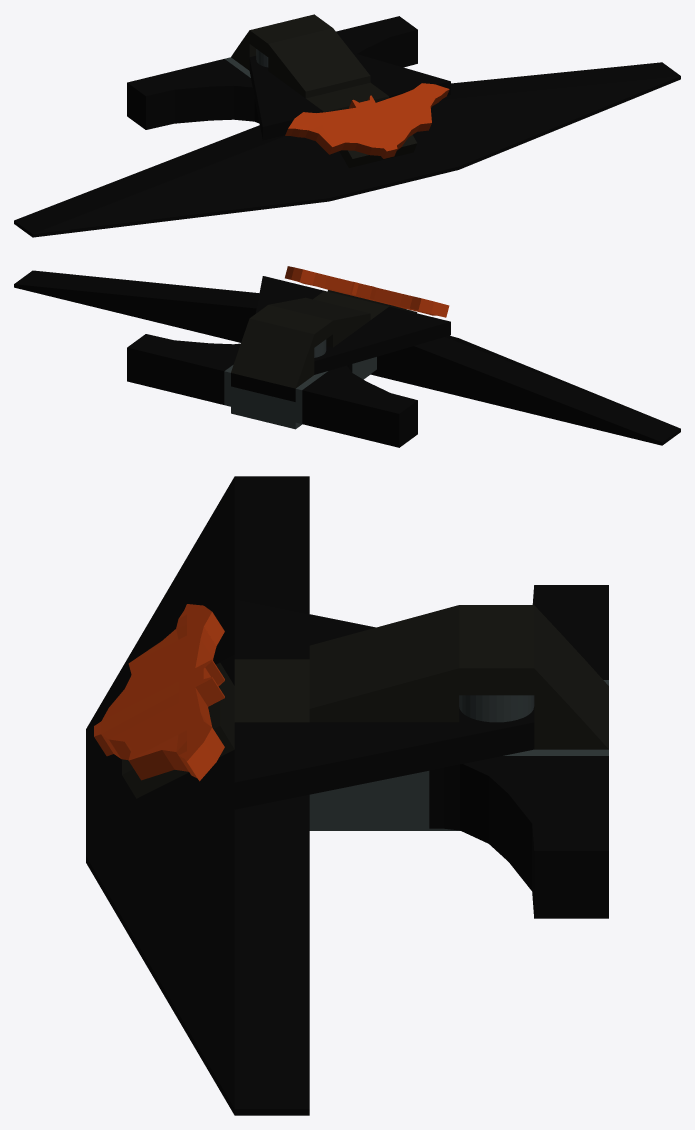
Rendered from wingLeft.obj.
3 renders of one model, top to bottom at view 1: azimuth 30°, elevation 25°; view 2: azimuth 150°, elevation 25°; view 3: azimuth 270°, elevation 25°, orthographic. The views are drawn at different scales.
Visible parts, largest first — view 1: wing_tip_black_right_Cube, wing_tip_black_left_Cube.002, wing_signal_holder.001_Plane.003, sign_Plane.001, engine_exhaust_dark_gray_2x2_Cube.014, black_triangle_Cube.006, wing_signal_holder_Plane.002, dark_gray_1x2.002_Cube.008, dark_gray_sign_holder_Cube.015, dark_gray_1x2.001_Cube.001, dark_gray_1x2_Cube.005; view 2: wing_tip_black_right_Cube, wing_tip_black_left_Cube.002, wing_signal_holder.001_Plane.003, dark_gray_1x2.002_Cube.008, wing_signal_holder_Plane.002, black_triangle_Cube.006, sign_Plane.001, engine_exhaust_dark_gray_2x2_Cube.014, light_gray_4x2_Cube.012, light_gray_4x2.001_Cube.003, black_4x2_Cube.004, ultra_thin_light_gray_1x4.001_Cube.013 (+2 smaller); view 3: wing_tip_black_left_Cube.002, black_triangle_Cube.006, wing_signal_holder_Plane.002, wing_tip_black_right_Cube, engine_exhaust_dark_gray_2x2_Cube.014, dark_gray_1x2.002_Cube.008, sign_Plane.001, ultra_thin_light_gray_1x4_Cube.011, wing_signal_holder.001_Plane.003, dark_gray_1x2.001_Cube.001, dark_gray_1x2_Cube.005, dark_gray_sign_holder_Cube.015 (+2 smaller).
Part boxes in pixels (left/top/right/bottom): wing_tip_black_right_Cube: left=14, top=125, right=393, bottom=237; wing_tip_black_left_Cube.002: left=381, top=62, right=680, bottom=185; wing_signal_holder.001_Plane.003: left=127, top=59, right=259, bottom=129; sign_Plane.001: left=285, top=83, right=449, bottom=158; engine_exhaust_dark_gray_2x2_Cube.014: left=268, top=28, right=370, bottom=98; black_triangle_Cube.006: left=249, top=53, right=450, bottom=140; wing_signal_holder_Plane.002: left=336, top=16, right=417, bottom=67; dark_gray_1x2.002_Cube.008: left=231, top=14, right=332, bottom=70; dark_gray_sign_holder_Cube.015: left=339, top=135, right=417, bottom=168; dark_gray_1x2.001_Cube.001: left=306, top=90, right=351, bottom=112; dark_gray_1x2_Cube.005: left=338, top=82, right=389, bottom=102; wing_tip_black_right_Cube: left=370, top=335, right=680, bottom=445; wing_tip_black_left_Cube.002: left=14, top=270, right=259, bottom=342; wing_signal_holder.001_Plane.003: left=302, top=364, right=417, bottom=447; dark_gray_1x2.002_Cube.008: left=231, top=305, right=332, bottom=388; wing_signal_holder_Plane.002: left=127, top=334, right=240, bottom=404; black_triangle_Cube.006: left=255, top=276, right=450, bottom=374; sign_Plane.001: left=285, top=266, right=449, bottom=317; engine_exhaust_dark_gray_2x2_Cube.014: left=269, top=297, right=370, bottom=347; light_gray_4x2_Cube.012: left=231, top=374, right=370, bottom=429; light_gray_4x2.001_Cube.003: left=231, top=386, right=295, bottom=415; black_4x2_Cube.004: left=231, top=373, right=295, bottom=401; ultra_thin_light_gray_1x4.001_Cube.013: left=295, top=357, right=376, bottom=423; wing_tip_black_left_Cube.002: left=86, top=750, right=309, bottom=1115; black_triangle_Cube.006: left=234, top=599, right=534, bottom=809; wing_signal_holder_Plane.002: left=429, top=756, right=608, bottom=918; wing_tip_black_right_Cube: left=86, top=476, right=309, bottom=792; engine_exhaust_dark_gray_2x2_Cube.014: left=309, top=605, right=459, bottom=722; dark_gray_1x2.002_Cube.008: left=459, top=605, right=608, bottom=749; sign_Plane.001: left=94, top=604, right=224, bottom=781; ultra_thin_light_gray_1x4_Cube.011: left=309, top=749, right=608, bottom=823; wing_signal_holder.001_Plane.003: left=532, top=585, right=608, bottom=679; dark_gray_1x2.001_Cube.001: left=234, top=659, right=309, bottom=690; dark_gray_1x2_Cube.005: left=234, top=691, right=309, bottom=722; dark_gray_sign_holder_Cube.015: left=122, top=663, right=234, bottom=798.
Size of the model in its own units: 160 by 19.2 by 55.9.
